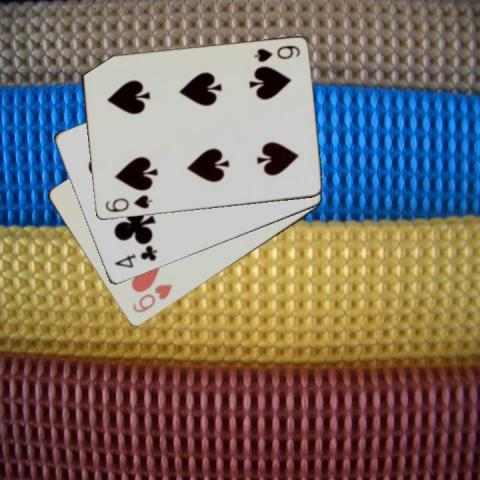4c: (110, 243, 158, 270)
6h: (130, 282, 174, 316)
6s: (102, 192, 153, 214), (251, 43, 301, 64)
